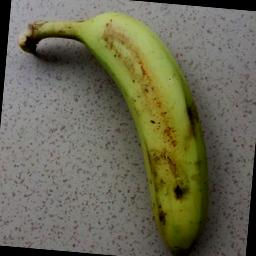Banana Ripe: (40, 0, 234, 256)
